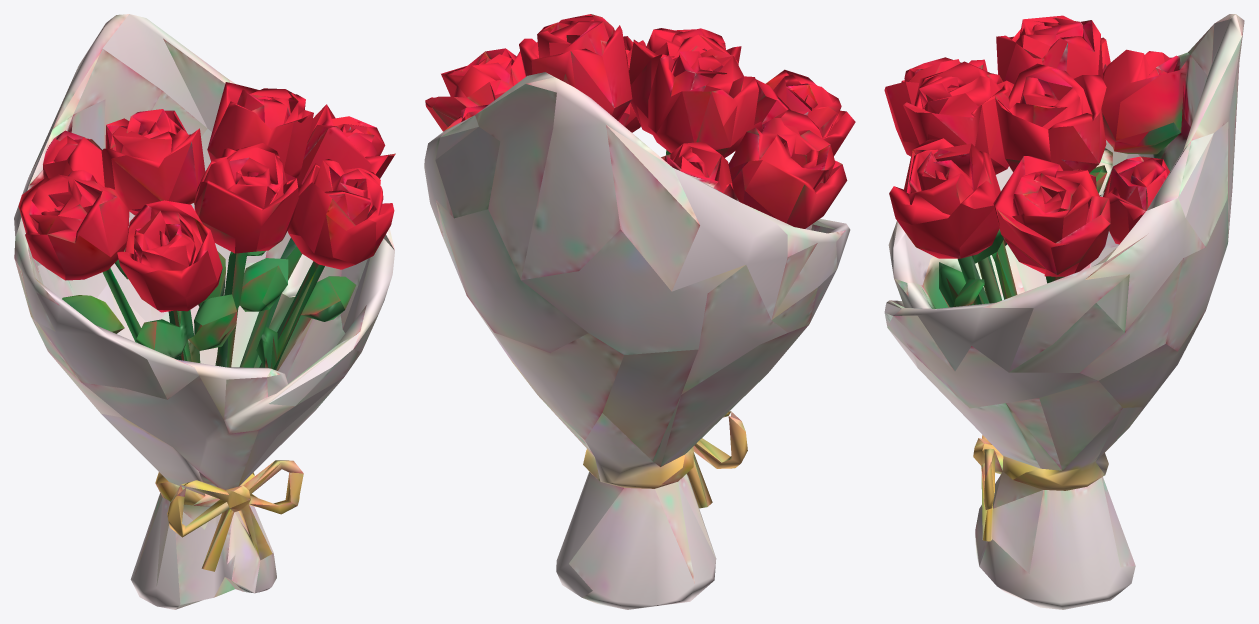
The model's file is Bouquet.glb.
The picture shows the model from 3 angles, left to right: view 1: azimuth 30°, elevation 25°; view 2: azimuth 150°, elevation 25°; view 3: azimuth 270°, elevation 25°; orthographic projection. The views are drawn at different scales.
Parts seen in each view (by area): view 1: Mesh_0; view 2: Mesh_0; view 3: Mesh_0.
Boxes of the visible parts, bbox=[...] form: Mesh_0: bbox=[14, 14, 395, 609]; Mesh_0: bbox=[424, 14, 855, 609]; Mesh_0: bbox=[884, 14, 1244, 609].
Size of the model in its own units: 1.39 by 1.9 by 1.1.
1 material, 1 textured.
